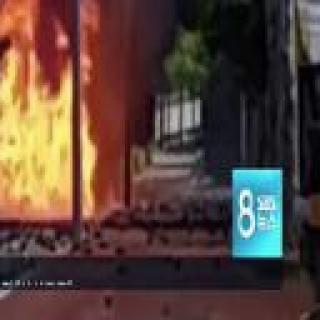fire: (0, 58, 85, 229)
